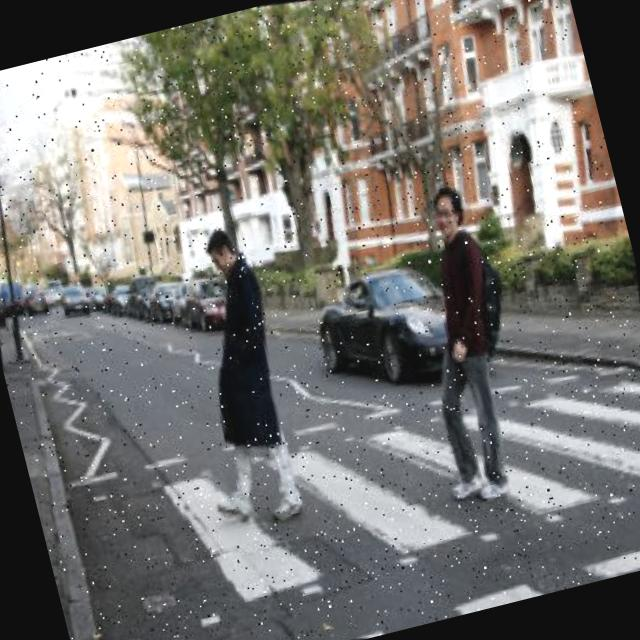Person: (150, 213, 337, 532), (381, 176, 557, 510)
